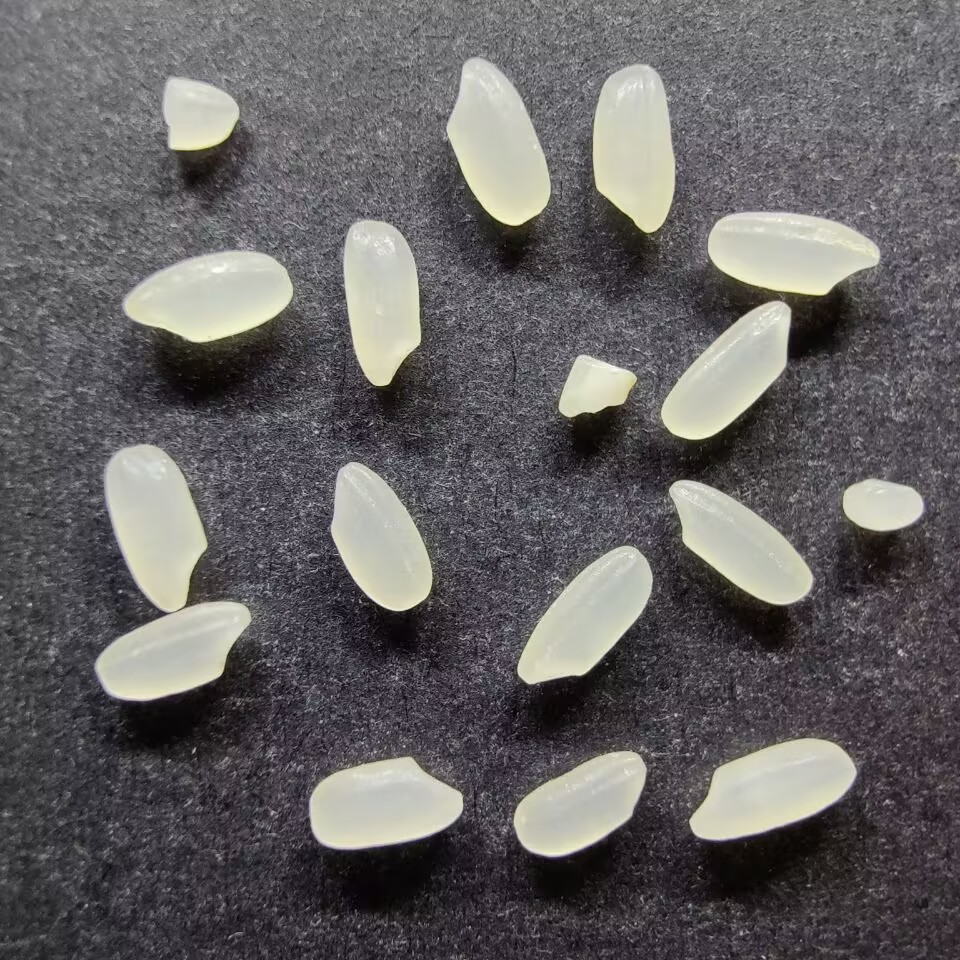broken: (159, 74, 239, 153), (556, 353, 637, 417), (841, 478, 928, 535)
rice: (515, 544, 654, 688), (666, 477, 815, 607), (659, 299, 794, 441), (444, 55, 553, 227), (102, 442, 209, 613), (688, 737, 858, 841), (328, 459, 435, 612), (120, 249, 292, 344), (93, 600, 253, 702), (705, 210, 881, 297), (511, 749, 649, 858), (307, 754, 465, 849), (590, 62, 677, 233), (341, 218, 422, 387)
